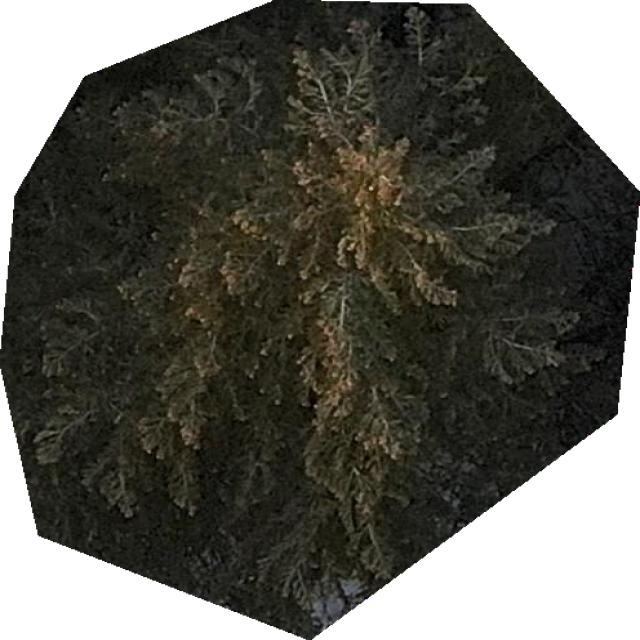spruce: (0, 0, 639, 639)
